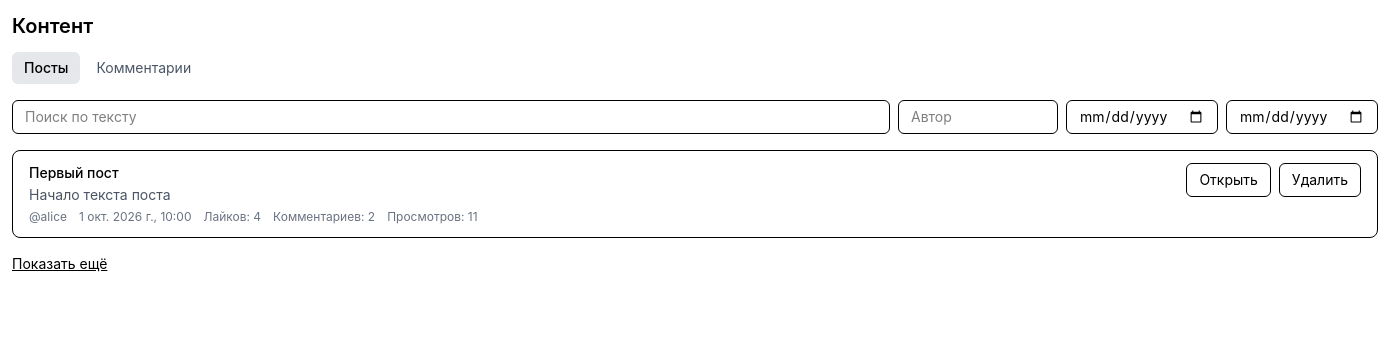
Test case: AdminContentPage: посты › «Показать ещё» подгружает следующую страницу по курсору
Expected: the text "Первый пост" is shown, x1=29 y1=164 x2=119 y2=181
Click the button "Показать ещё" at (60, 264), box x1=12 y1=254 x2=107 y2=274
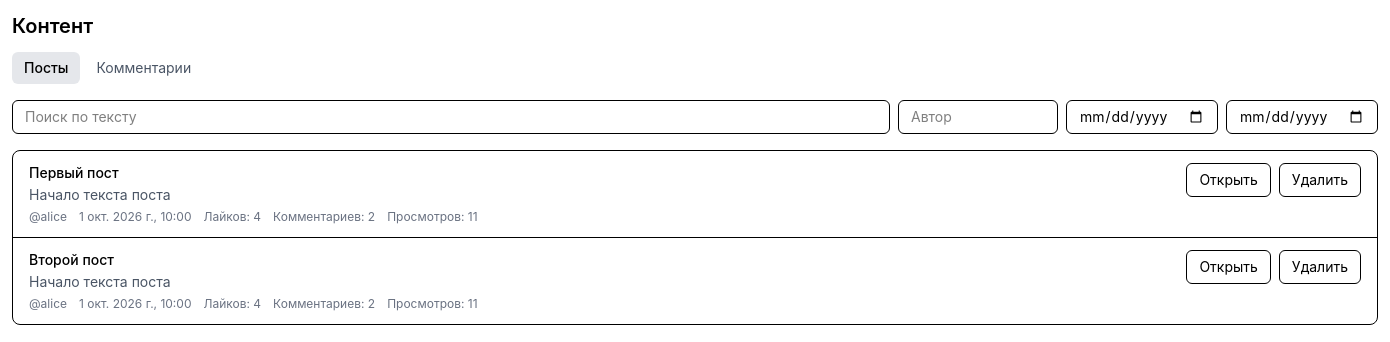
Now the text "Второй пост" is shown, box x1=29 y1=251 x2=114 y2=268
